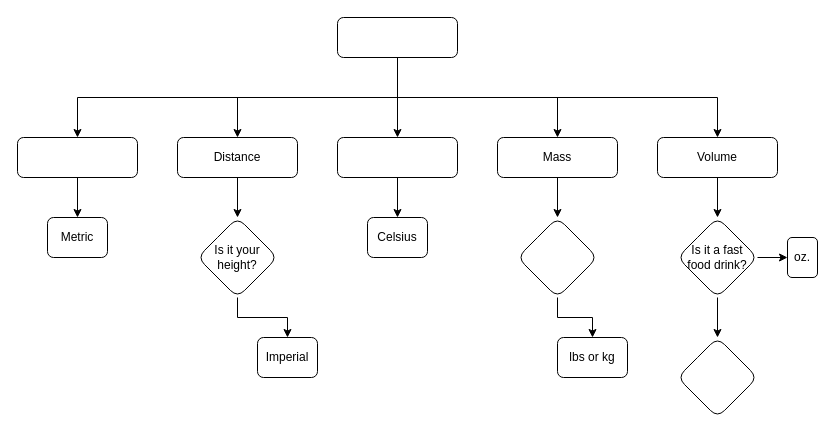
Some shapes in this 835 by 435 pixel diagram are drawn without their labels. Each missing label, with the box of its shape:
Is it for cooking?: (676, 336, 758, 418)
Is it your weight?: (516, 216, 598, 298)
Speed: (16, 136, 138, 178)
Temperature: (336, 136, 458, 178)
What are you measuring?: (336, 16, 458, 58)
